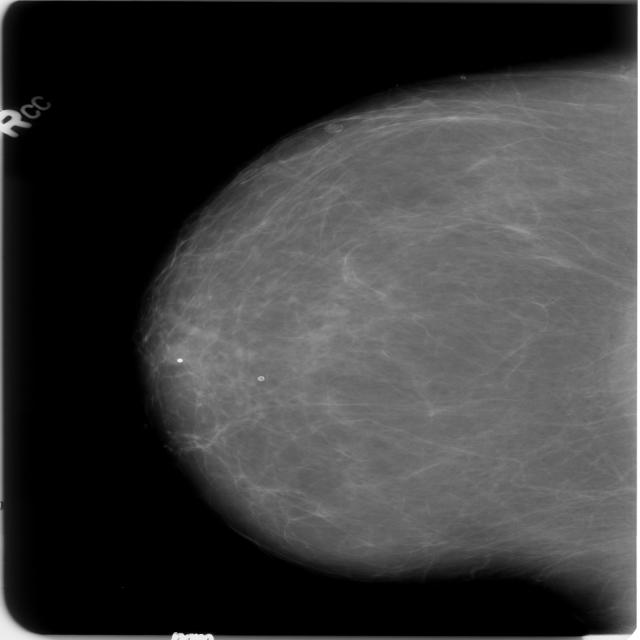normal: (128, 60, 640, 600)
